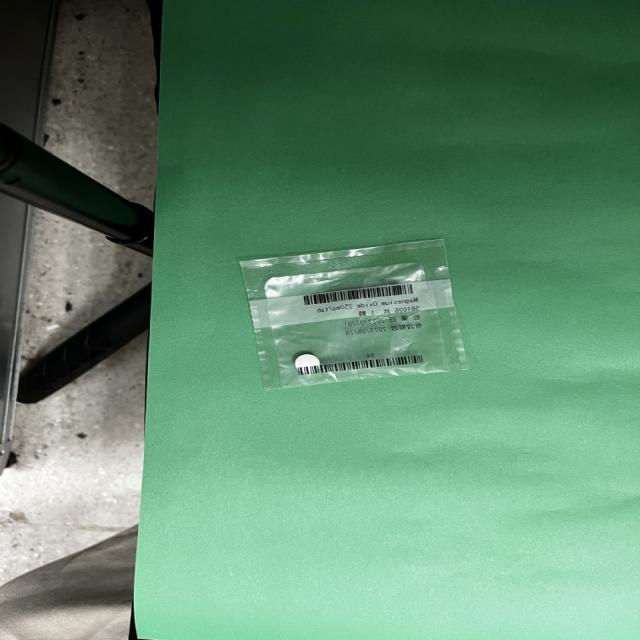Other Objects: (239, 239, 466, 390)
